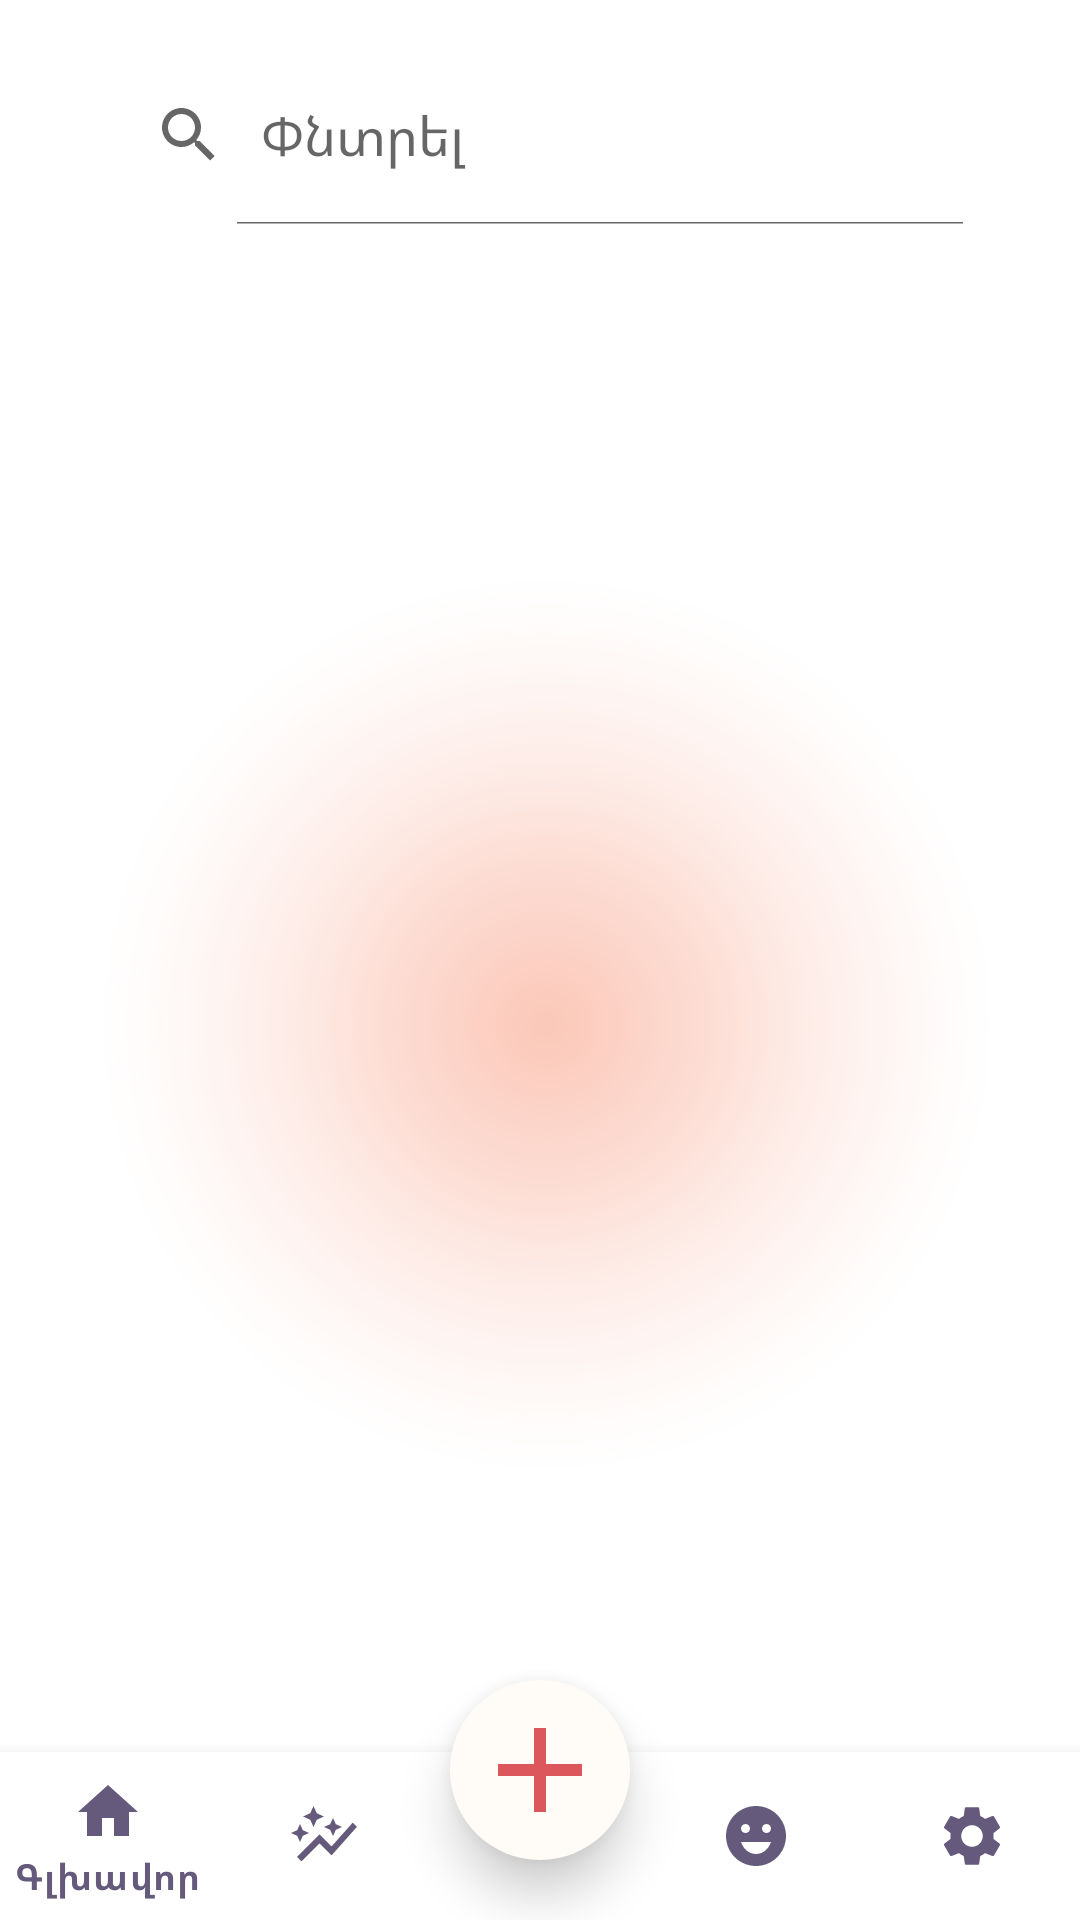

Where icons sit on this 1080 × 1920 app screen, as (x1, y1, x2, y2):
add: (498, 1728, 582, 1812)
